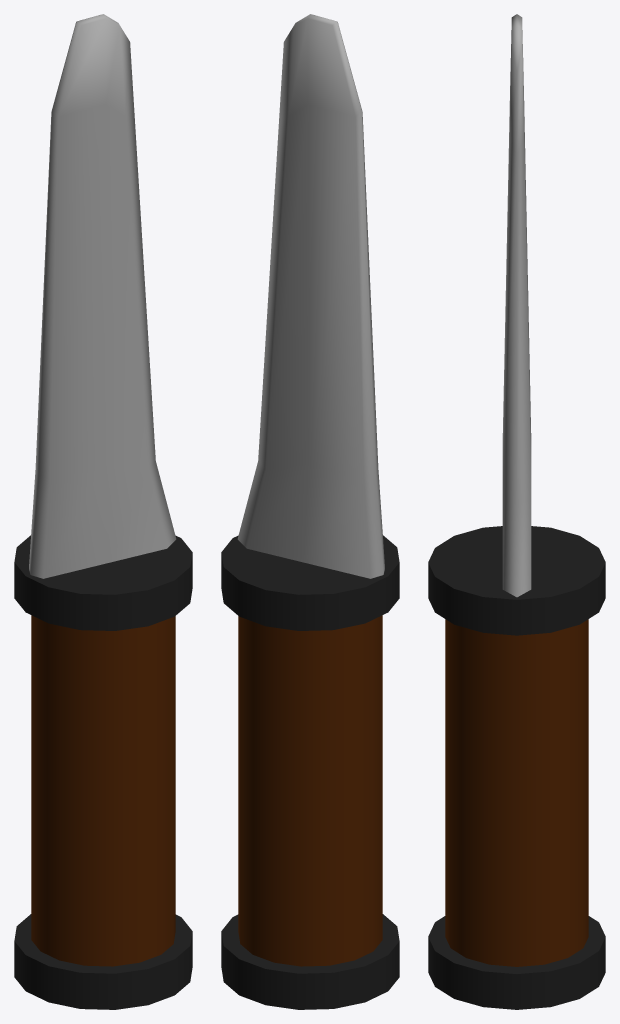
File: knife.fbx
3 views of the same model, side by side, from view 1: azimuth 30°, elevation 25°; view 2: azimuth 150°, elevation 25°; view 3: azimuth 270°, elevation 25° (orthographic).
Parts seen in each view (by area): view 1: Cylinder; view 2: Cylinder; view 3: Cylinder.
Part boxes in pixels (x1,y1,x2,y2): Cylinder: [14, 14, 192, 1009]; Cylinder: [221, 14, 399, 1009]; Cylinder: [428, 14, 605, 1009].
Size of the model in its own units: 200 by 1177 by 200.
